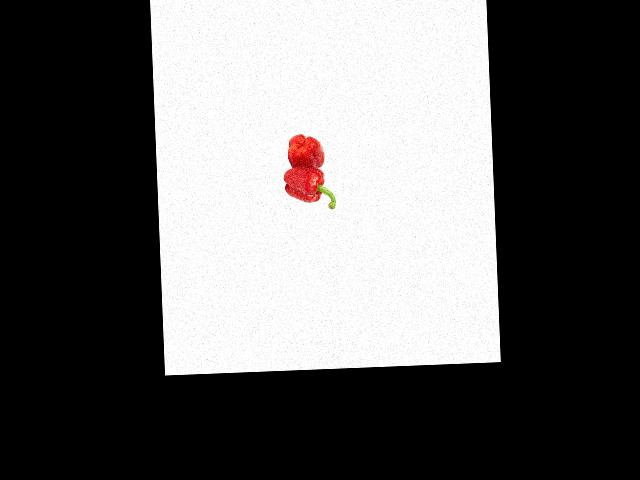bell_pepper: (284, 133, 327, 169)
